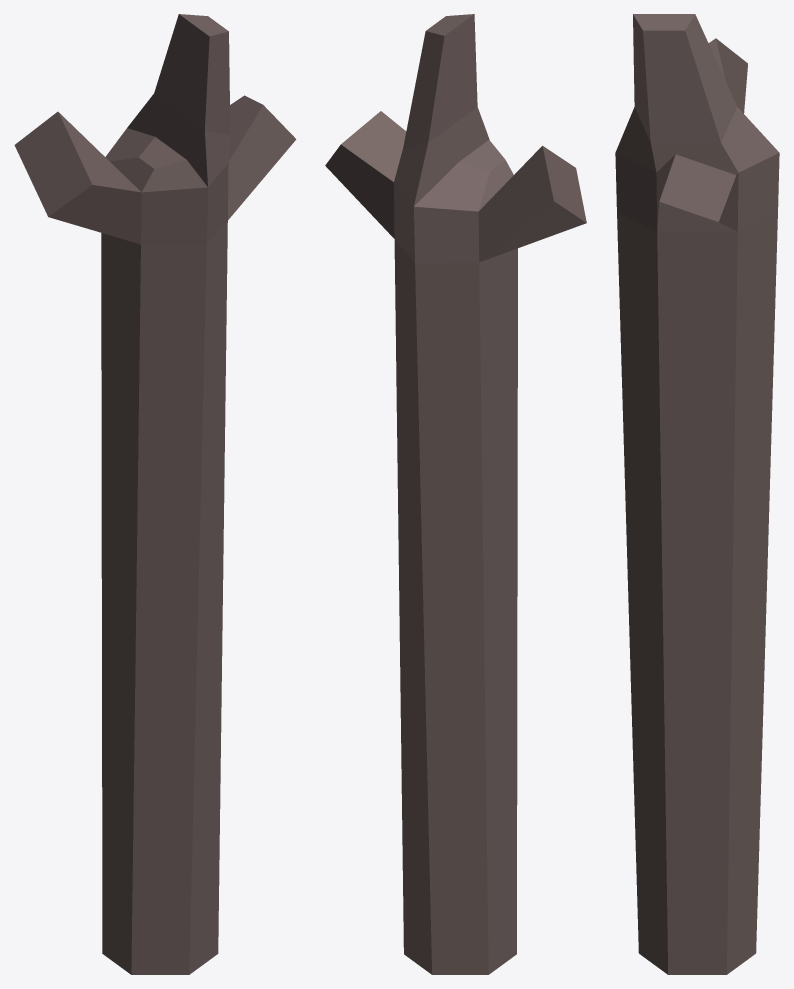
Rendered from fence6.fbx.
3 renders of one model, left to right at view 1: azimuth 30°, elevation 25°; view 2: azimuth 150°, elevation 25°; view 3: azimuth 270°, elevation 25°, orthographic. The views are drawn at different scales.
Visible parts, largest first — view 1: Props_fences.005; view 2: Props_fences.005; view 3: Props_fences.005.
Boxes of the visible parts, left/top/right/bottom form: Props_fences.005: left=14, top=14, right=296, bottom=974; Props_fences.005: left=325, top=14, right=586, bottom=974; Props_fences.005: left=615, top=14, right=779, bottom=974.
Bounding box in the file's own units: 38.42 × 138 × 21.66.
